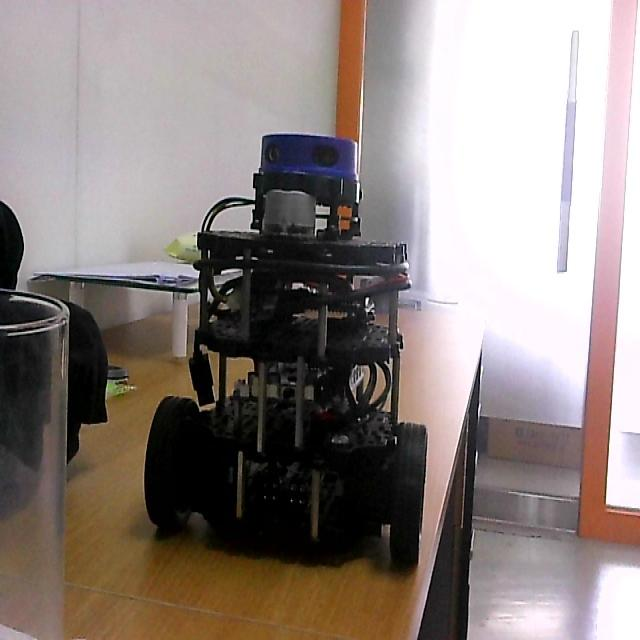turtle: (142, 129, 430, 575)
